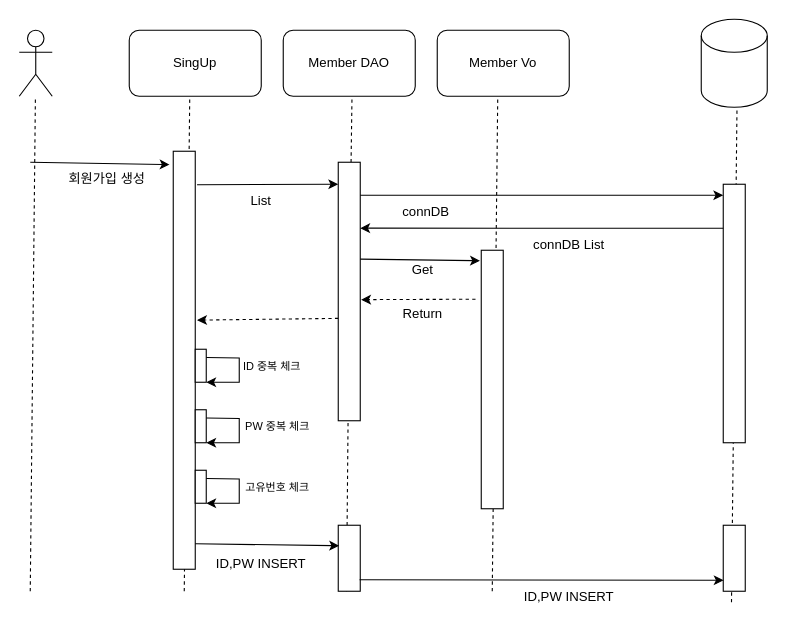
Some shapes in this 787 by 633 pixel diagram are drawn without their labels. The shapes that lost their labels are listed below. From the top down, each one's centre as x and y in pixels, then its label:
(x=35, y=62): Actor
(x=733, y=62): DB
